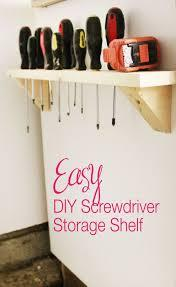screwdriver: (103, 6, 124, 127), (88, 14, 102, 130), (18, 25, 33, 133), (39, 26, 55, 106), (53, 30, 63, 123), (63, 18, 72, 117), (34, 28, 44, 112), (77, 26, 86, 115), (27, 37, 38, 105), (71, 80, 77, 107)
